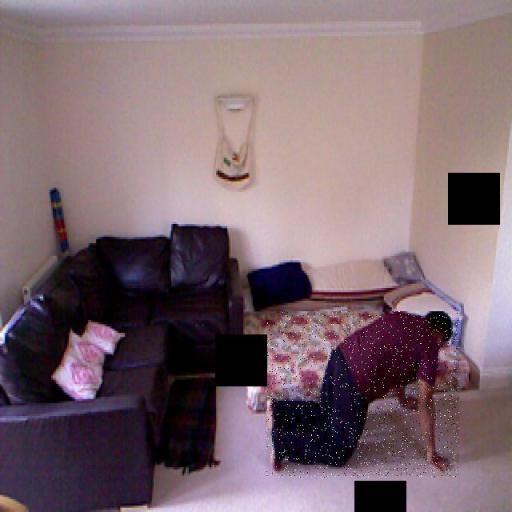Fall: (266, 312, 459, 478)
